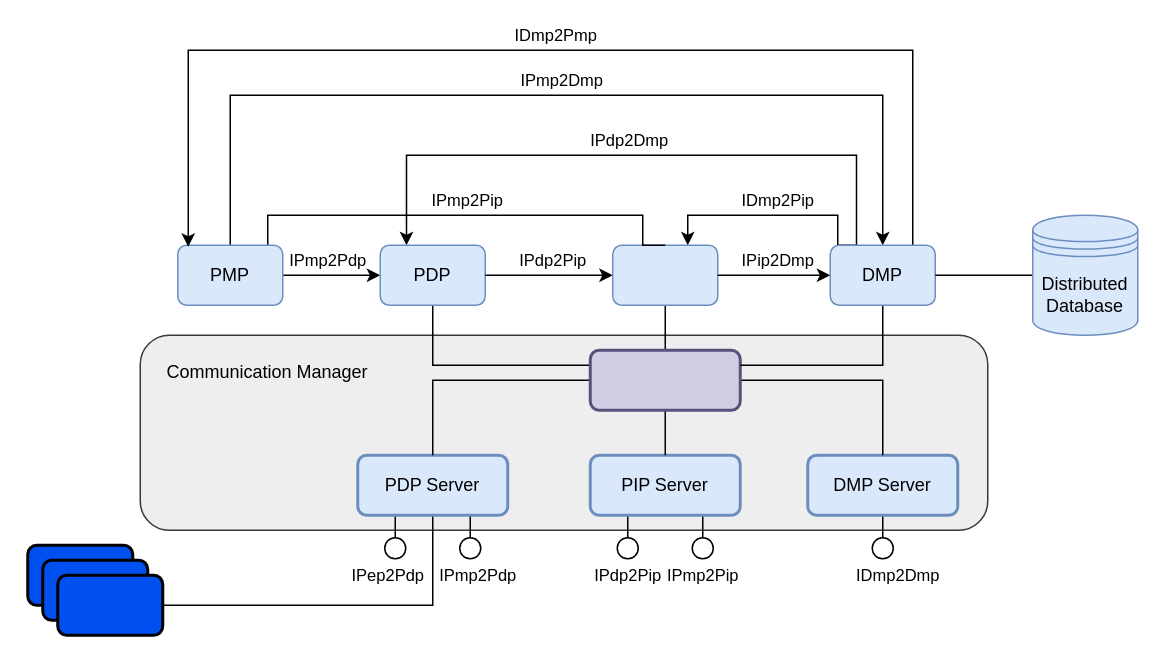
The diagram is 1164 pixels wide and 663 high, and some of its shapes have lost their labels. Here are the shapes that lost their labels. From the top down, the centre of each, then its label:
At (x=664, y=274): "PIP".
At (x=664, y=379): "Context Handler".
At (x=110, y=604): "PEP".
